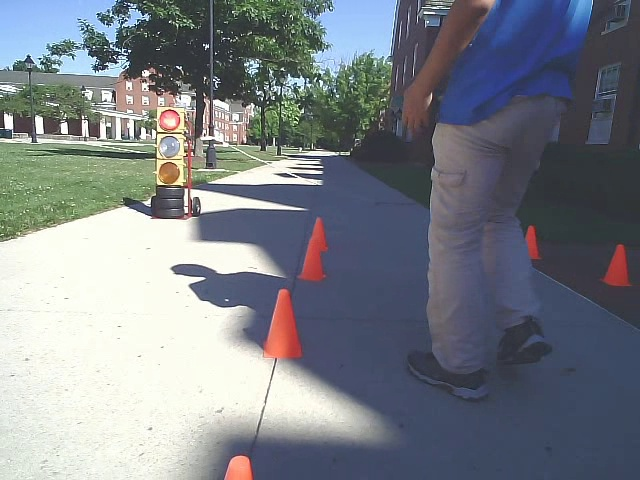red: (154, 104, 186, 185)
